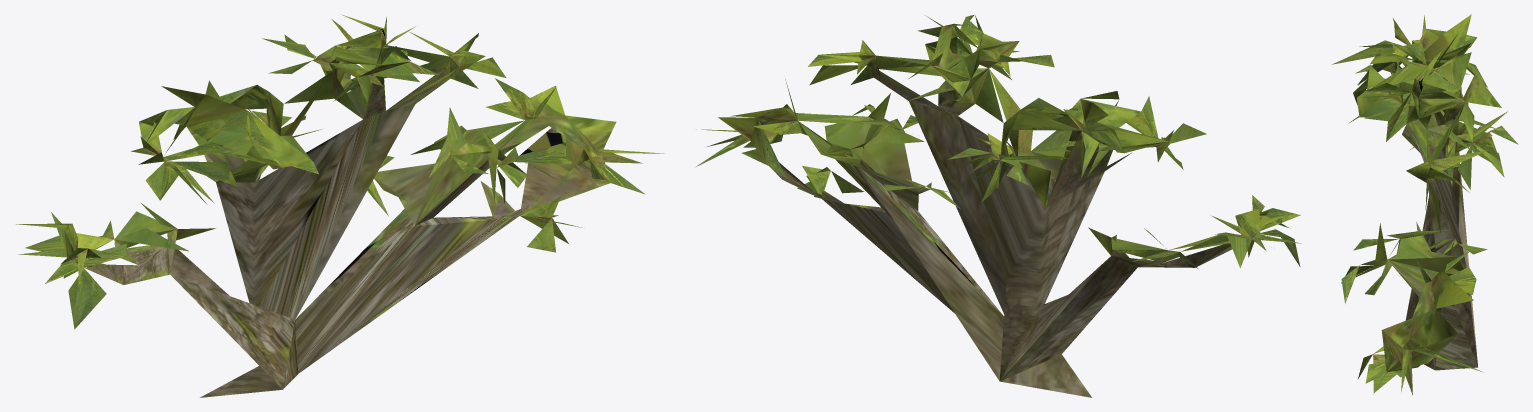
Rendered from ea_valley_shrub_lod1.glb.
The picture shows the model from 3 angles, left to right: view 1: azimuth 30°, elevation 25°; view 2: azimuth 150°, elevation 25°; view 3: azimuth 270°, elevation 25°; orthographic projection. The views are drawn at different scales.
Visible parts, largest first — view 1: output_unwrapped; view 2: output_unwrapped; view 3: output_unwrapped.
Boxes of the visible parts, left/top/right/bottom form: output_unwrapped: left=16, top=14, right=664, bottom=397; output_unwrapped: left=696, top=14, right=1301, bottom=397; output_unwrapped: left=1332, top=14, right=1518, bottom=395.
Bounding box in the file's own units: 1.83 × 0.9807 × 0.4778.
Materials: 1 (1 with a texture image).
